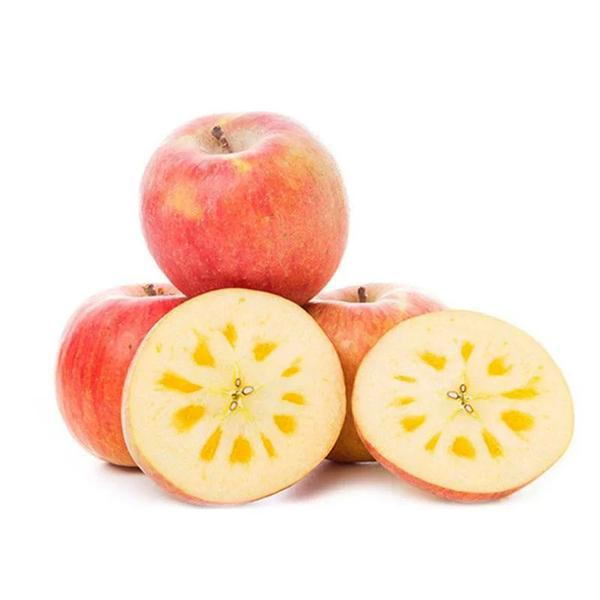apple: (137, 111, 347, 303), (295, 282, 453, 469), (52, 283, 181, 469)
